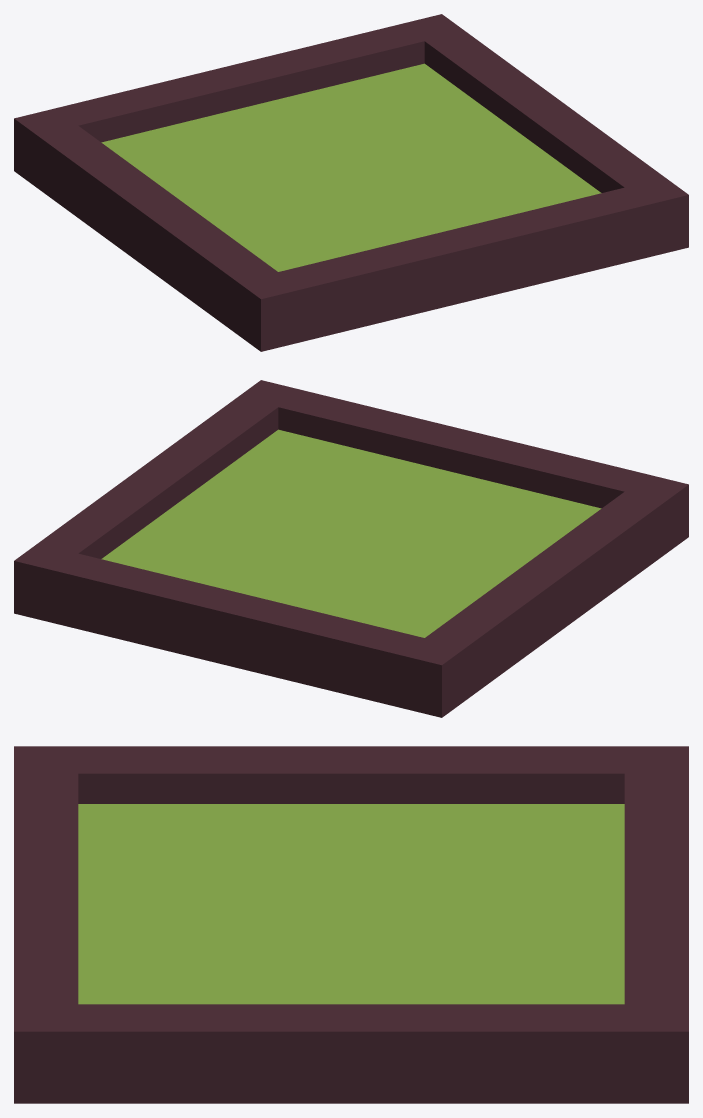
Rendered from planter.fbx.
3 views of the same model, one above another, from view 1: azimuth 30°, elevation 25°; view 2: azimuth 150°, elevation 25°; view 3: azimuth 270°, elevation 25° (orthographic). The views are drawn at different scales.
Visible parts, largest first — view 1: Cube; view 2: Cube; view 3: Cube.
Boxes of the visible parts, bbox=[...] form: Cube: bbox=[14, 14, 688, 351]; Cube: bbox=[14, 380, 688, 717]; Cube: bbox=[14, 746, 688, 1103].
Size of the model in its own units: 707 by 83.16 by 707.
